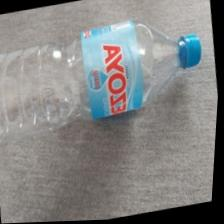plastic: (0, 4, 219, 149)
